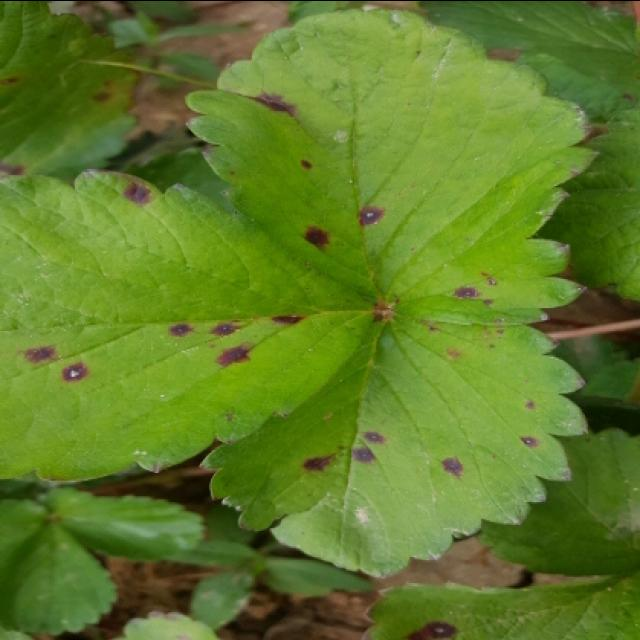Leaf Spot: (183, 3, 601, 324), (0, 166, 384, 483), (197, 312, 589, 578)
